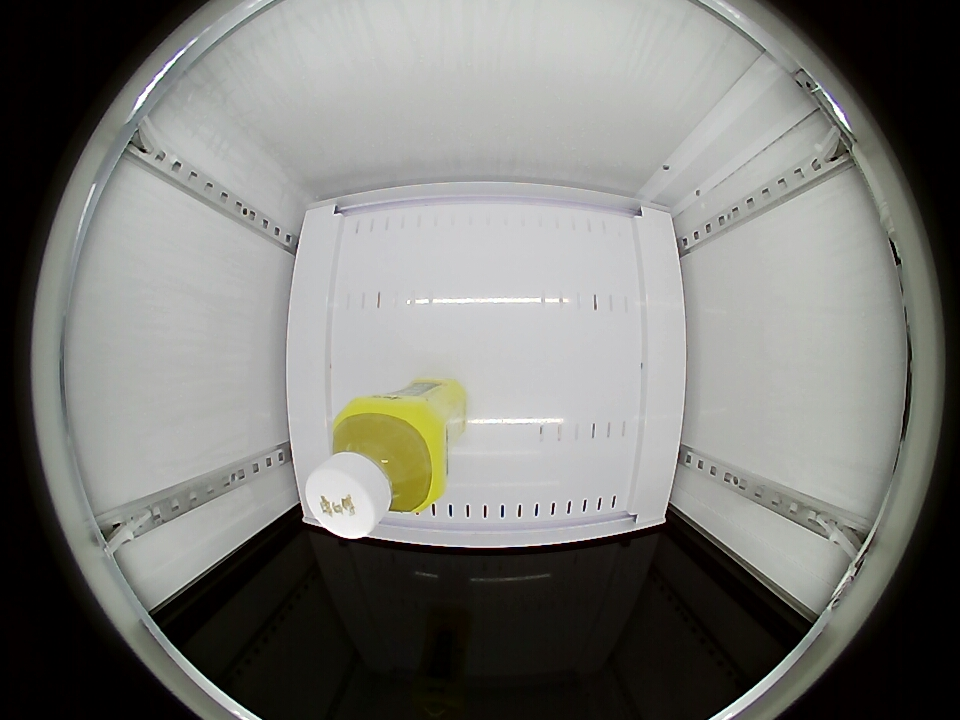bingtangxueli: (305, 400, 444, 539)
